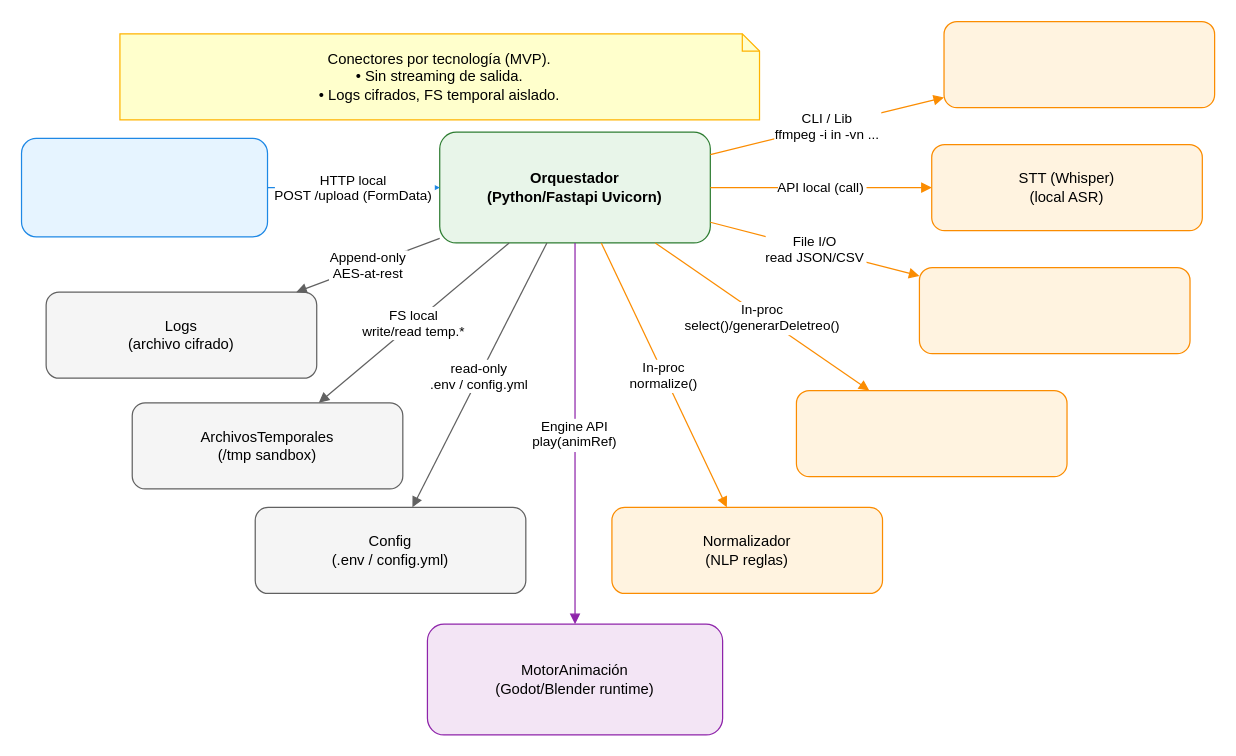
Some shapes in this 1236 by 756 pixel diagram are drawn without their labels. Here are the shapes that lost their labels. From the top down, the centre of each, then its label:
At point 1079,64: "ExtractorAudio (FFmpeg wrapper)".
At point 144,187: "UI HTML (Form POST / File API)".
At point 1054,310: "Diccionario (JSON/CSV local)".
At point 931,433: "SelectorSeña (lógica dominio)".
